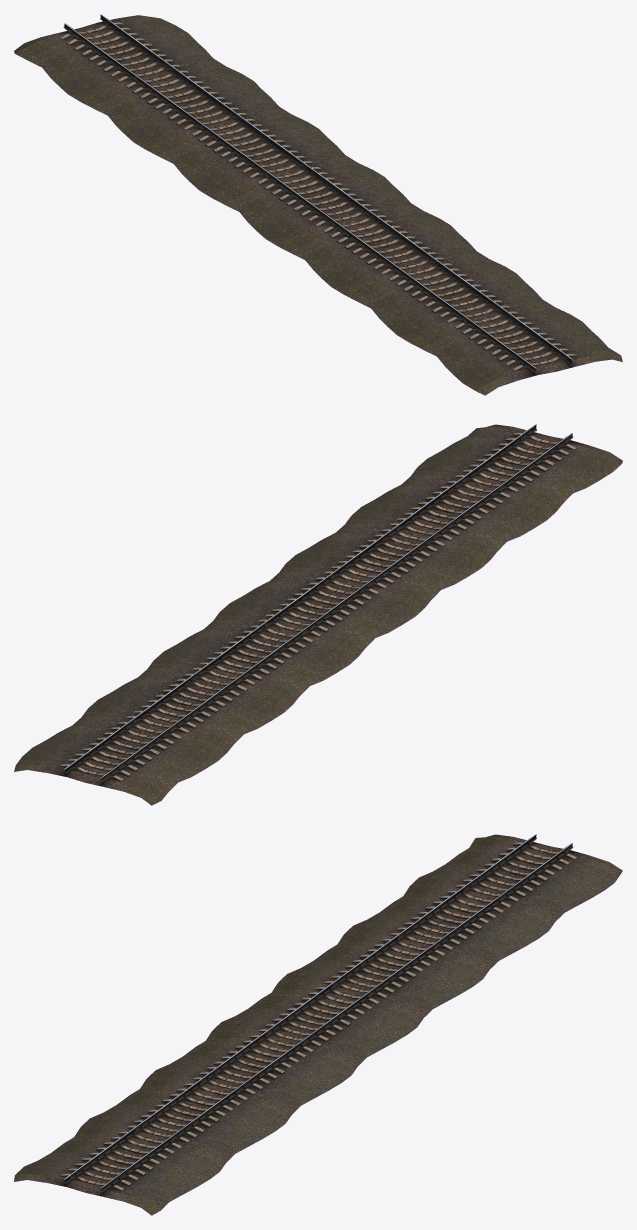
File: 1track_35_TSM.gltf
3 renders of one model, top to bottom at view 1: azimuth 30°, elevation 25°; view 2: azimuth 150°, elevation 25°; view 3: azimuth 330°, elevation 25°, orthographic.
Bounding box in the file's own units: 6.7 × 0.6438 × 35.8.
1 material, 1 textured.
